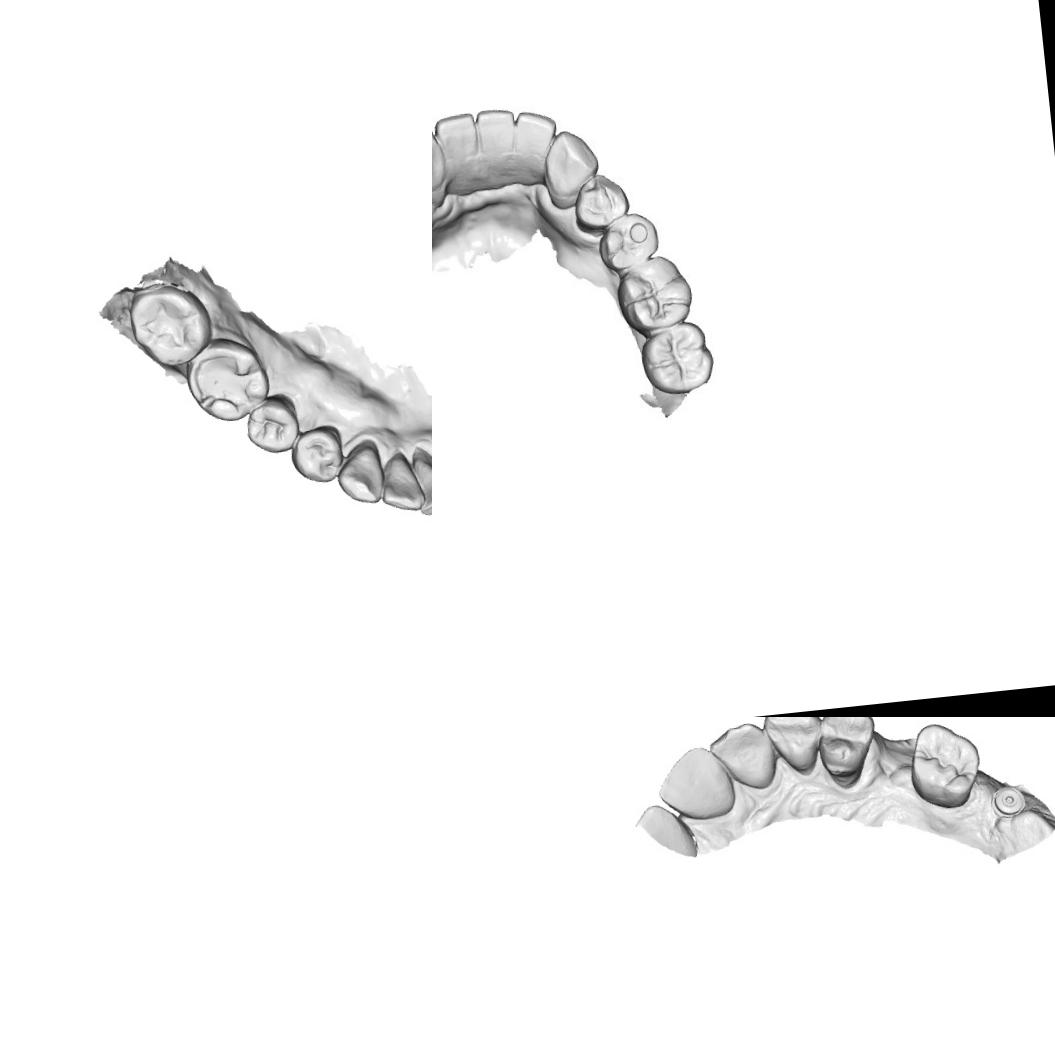canine: (538, 126, 604, 212), (334, 433, 386, 510), (759, 717, 825, 777)
implant: (988, 778, 1028, 824)
incisor: (652, 741, 740, 825), (705, 719, 779, 795), (632, 800, 698, 863), (432, 111, 484, 176), (377, 449, 428, 515), (472, 105, 522, 170), (509, 105, 560, 165), (432, 124, 451, 202), (409, 452, 432, 516)
molar: (180, 332, 274, 426), (124, 278, 216, 372), (903, 717, 986, 814), (609, 252, 696, 336), (636, 316, 719, 400)
premolar: (594, 208, 662, 273), (568, 170, 632, 238), (812, 717, 880, 781), (286, 422, 348, 486), (242, 394, 303, 456)
